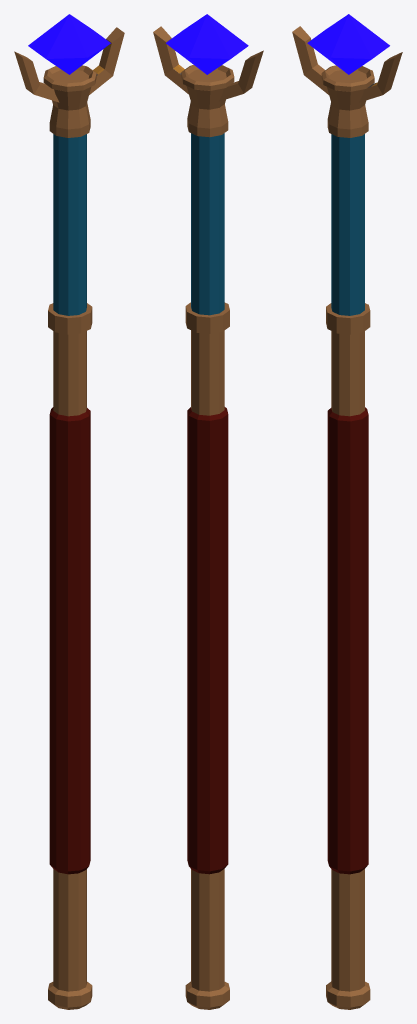
The model's file is o2_Weapons_Magic_Staff_Lrg_001.fbx.
The picture shows the model from 3 angles, left to right: view 1: azimuth 30°, elevation 25°; view 2: azimuth 150°, elevation 25°; view 3: azimuth 330°, elevation 25°; orthographic projection.
Visible parts, largest first — view 1: o2_Weapons_Magic_Staff_Lrg_001, o2_Crafting_Mineral_Sapphire_002__1_; view 2: o2_Weapons_Magic_Staff_Lrg_001, o2_Crafting_Mineral_Sapphire_002__1_; view 3: o2_Weapons_Magic_Staff_Lrg_001, o2_Crafting_Mineral_Sapphire_002__1_.
Boxes of the visible parts, x1=… form: o2_Weapons_Magic_Staff_Lrg_001: x1=14, y1=27, x2=124, y2=1009; o2_Crafting_Mineral_Sapphire_002__1_: x1=28, y1=14, x2=110, y2=74; o2_Weapons_Magic_Staff_Lrg_001: x1=153, y1=26, x2=263, y2=1009; o2_Crafting_Mineral_Sapphire_002__1_: x1=166, y1=14, x2=248, y2=74; o2_Weapons_Magic_Staff_Lrg_001: x1=292, y1=26, x2=402, y2=1009; o2_Crafting_Mineral_Sapphire_002__1_: x1=307, y1=14, x2=389, y2=74.
Bounding box in the file's own units: 22.84 × 210 × 13.99.
